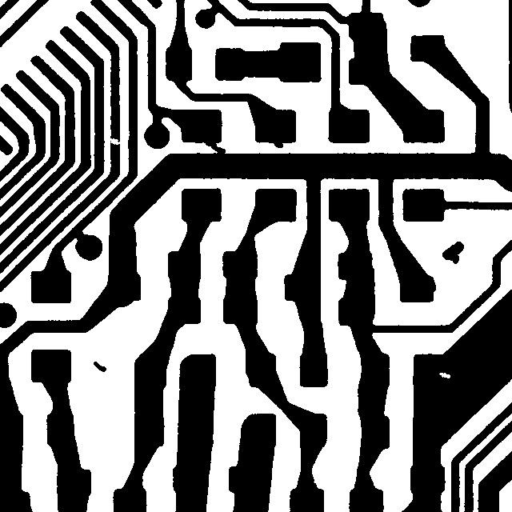copper: (434, 234, 471, 271), (86, 354, 114, 379)
open: (102, 130, 128, 152)
pin-hole: (431, 365, 458, 386)
short: (198, 134, 233, 161)
spur: (266, 132, 290, 155)
